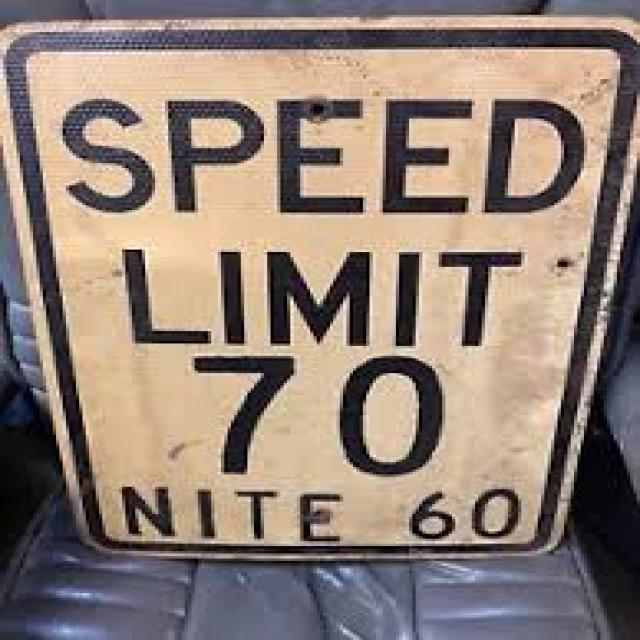speedLimit70: (20, 32, 623, 487)
